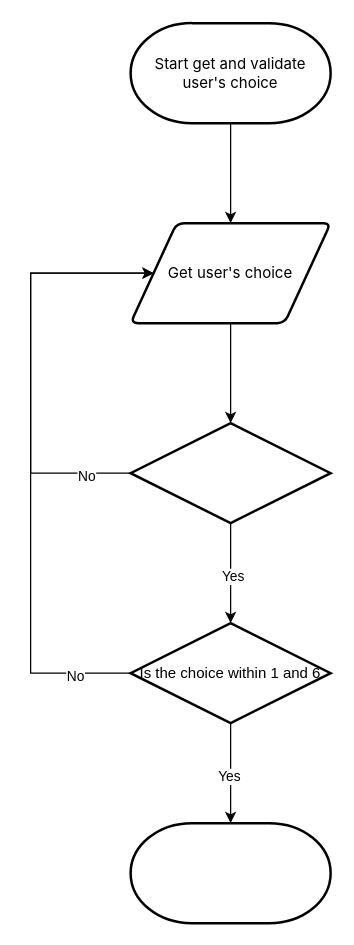
The diagram is 354 pixels wide and 945 high, and some of its shapes have lost their labels. Here are the shapes that lost their labels. From the top down, the centre of each, then its label:
At (x=230, y=472): "Is the choice an integer".
At (x=230, y=872): "Return the valid choice".
